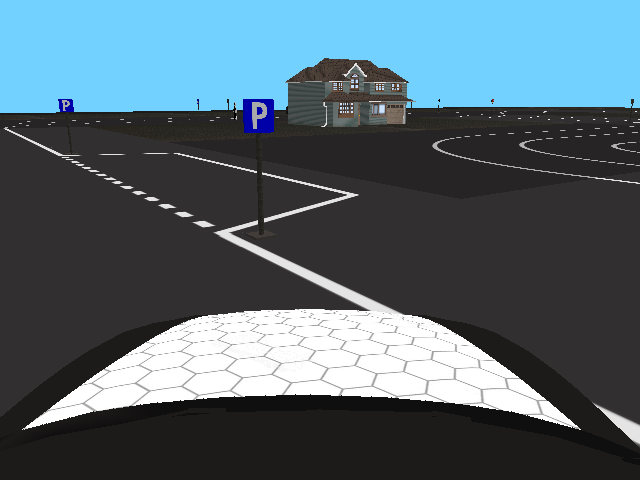parking: (242, 99, 276, 133), (57, 98, 75, 114)
